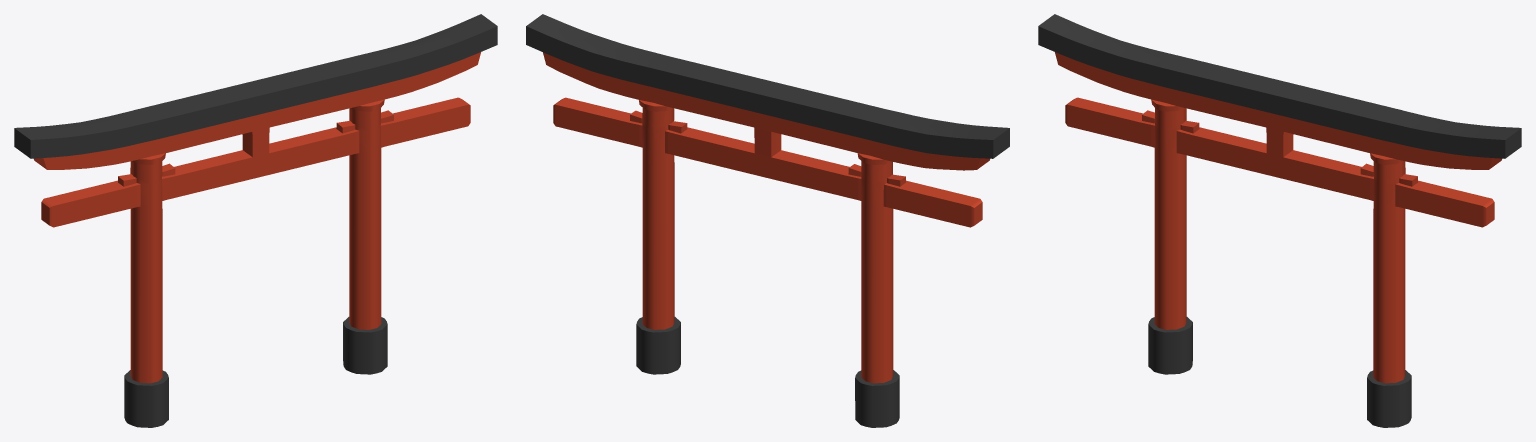
Rendered from Torii_v2.fbx.
The picture shows the model from 3 angles, left to right: view 1: azimuth 30°, elevation 25°; view 2: azimuth 150°, elevation 25°; view 3: azimuth 330°, elevation 25°; orthographic projection.
Parts seen in each view (by area): view 1: pCube7; view 2: pCube7; view 3: pCube7.
Part boxes in pixels (<box>): pCube7: <box>14,14,497,427</box>; pCube7: <box>526,14,1009,427</box>; pCube7: <box>1038,14,1521,427</box>.
Size of the model in its own units: 248 by 160 by 20.53.
